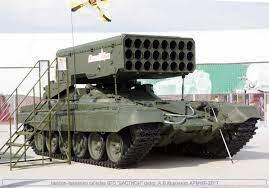rszo: (24, 28, 264, 170)
